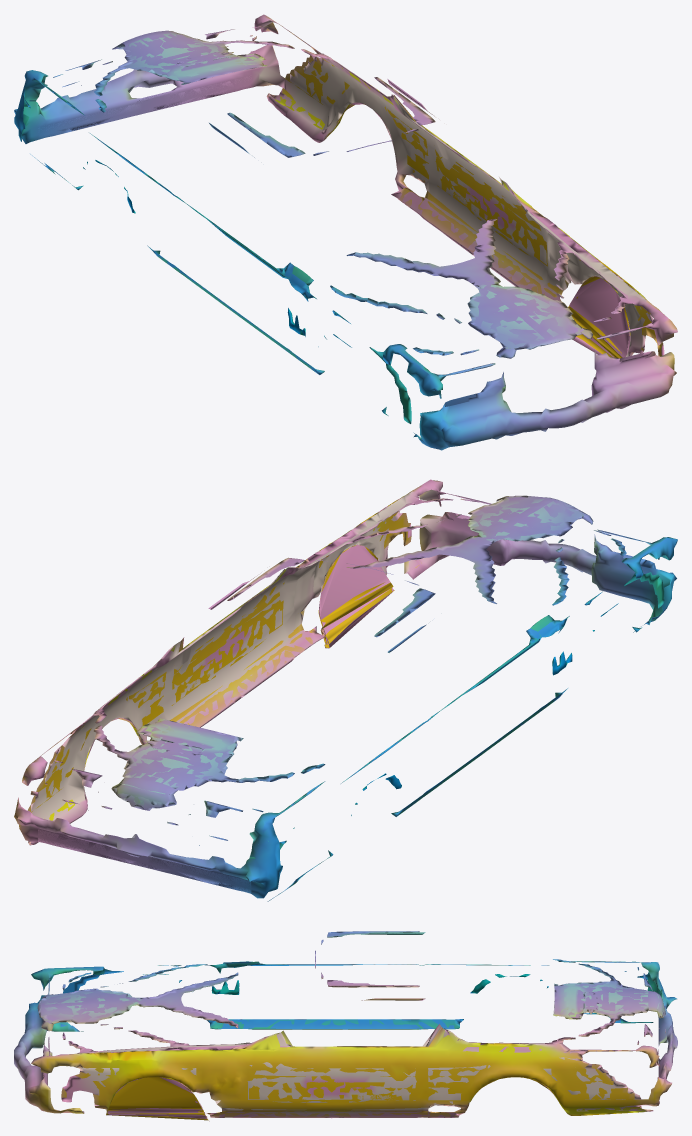
Rendered from lincoln_foam_macro_v2.glb.
3 renders of one model, top to bottom at view 1: azimuth 30°, elevation 25°; view 2: azimuth 150°, elevation 25°; view 3: azimuth 270°, elevation 25°, orthographic. The views are drawn at different scales.
Visible parts, largest first — view 1: FoamMacroMesh; view 2: FoamMacroMesh; view 3: FoamMacroMesh.
Part boxes in pixels (x1,y1,x2,y2): FoamMacroMesh: (14, 14, 677, 450); FoamMacroMesh: (14, 479, 677, 901); FoamMacroMesh: (14, 931, 677, 1121).
Size of the model in its own units: 2.02 by 1.13 by 5.66.
